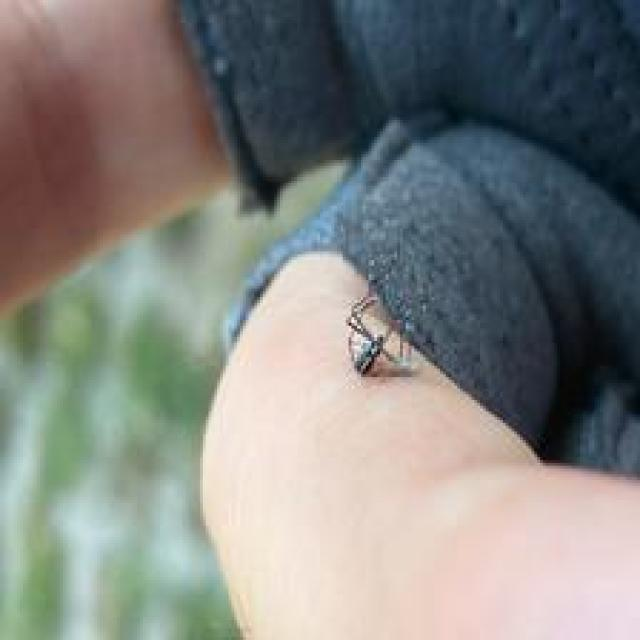Aedes albopictus: (344, 280, 419, 380)
